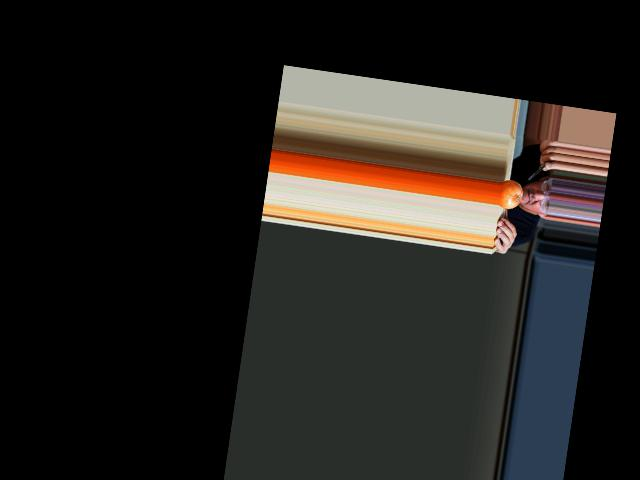onion: (498, 178, 524, 211)
